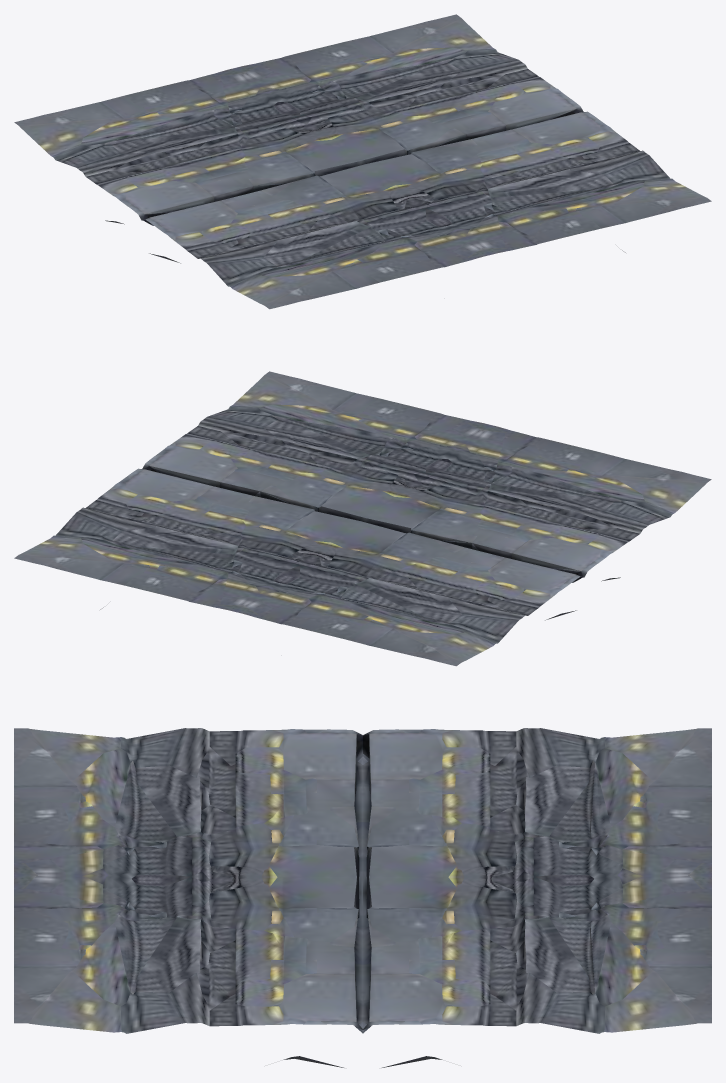
The model's file is hangar_floor_tile.glb.
The picture shows the model from 3 angles, top to bottom: view 1: azimuth 30°, elevation 25°; view 2: azimuth 150°, elevation 25°; view 3: azimuth 270°, elevation 25°; orthographic projection. The views are drawn at different scales.
Parts seen in each view (by area): view 1: tile; view 2: tile; view 3: tile.
Boxes of the visible parts, x1,y1,x2,y2 form: tile: [14, 14, 711, 309]; tile: [14, 371, 711, 666]; tile: [14, 728, 711, 1067].
Size of the model in its own units: 1 by 0.0742 by 1.
1 material, 1 textured.
